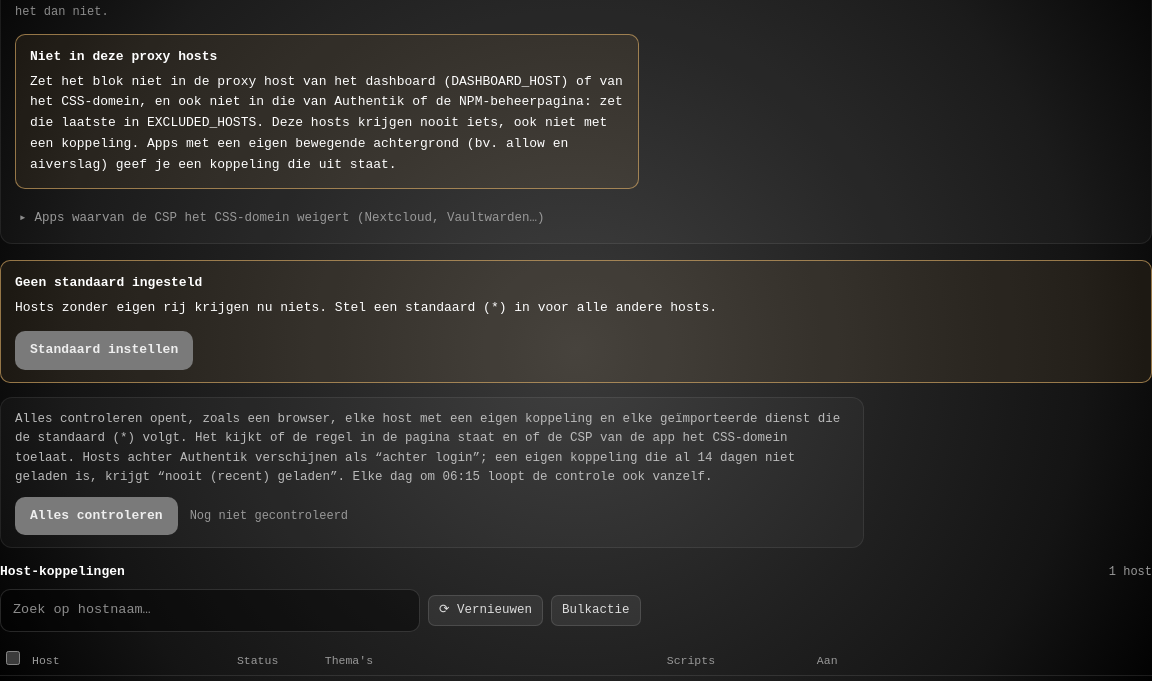
Test: HostsPage › biedt Standaard instellen aan als * ontbreekt
The image size is (1152, 681).
(page scrolled)
Check: the text "Geen standaard ingesteld" is shown, box [15,275,202,290]
Click the button "Standaard instellen" at (104, 350), box [15,331,193,370]
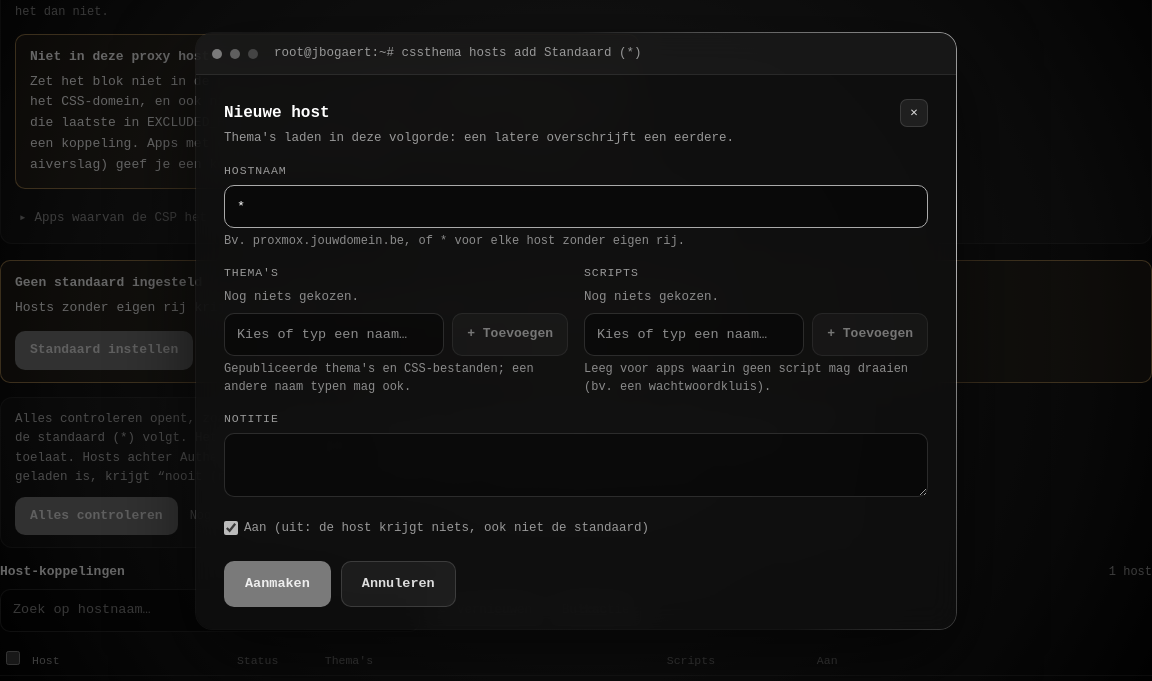
Check: the field labelled "Hostnaam" holds "*", box [224,185,928,228]
